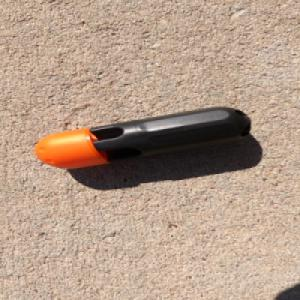PlasticPart: (31, 105, 253, 169)
